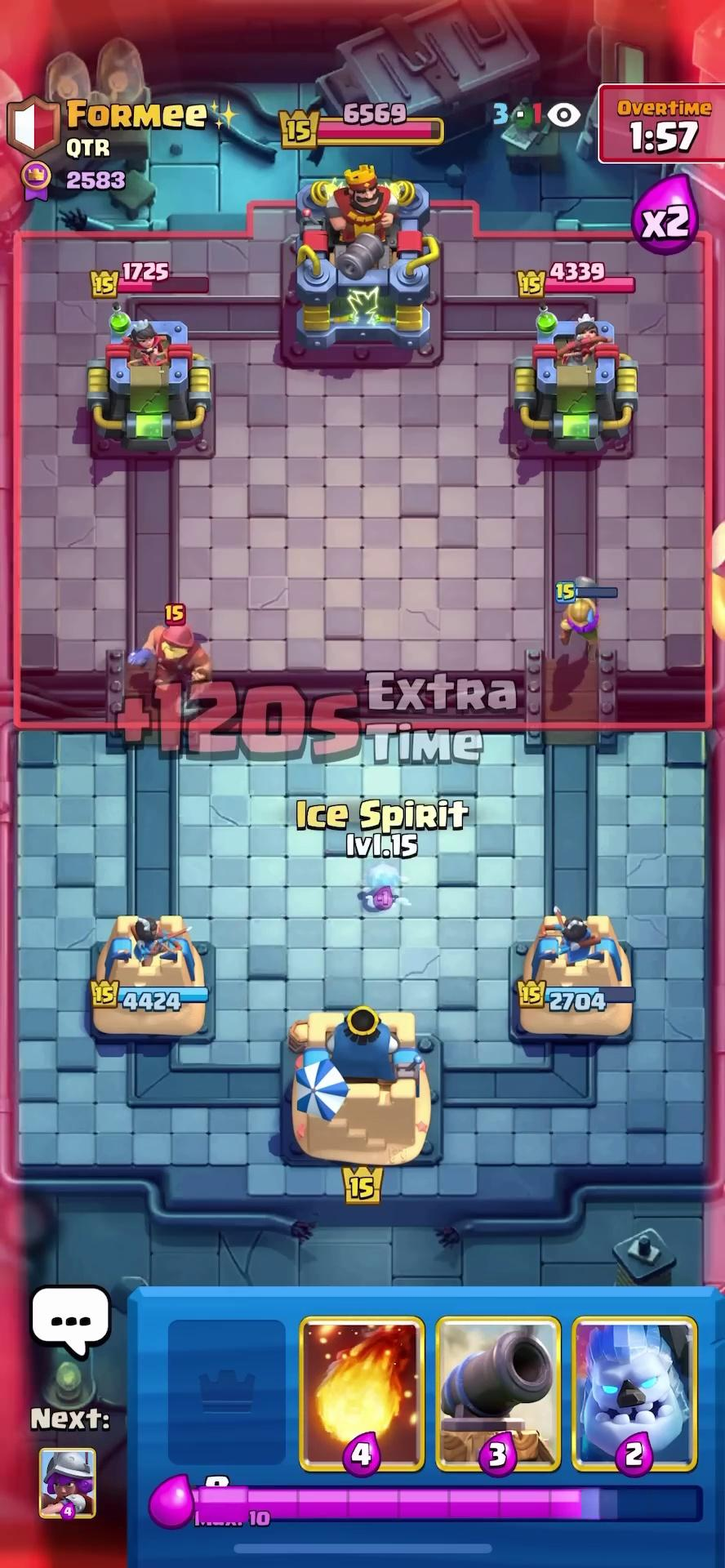musketeer: (545, 557, 623, 653)
